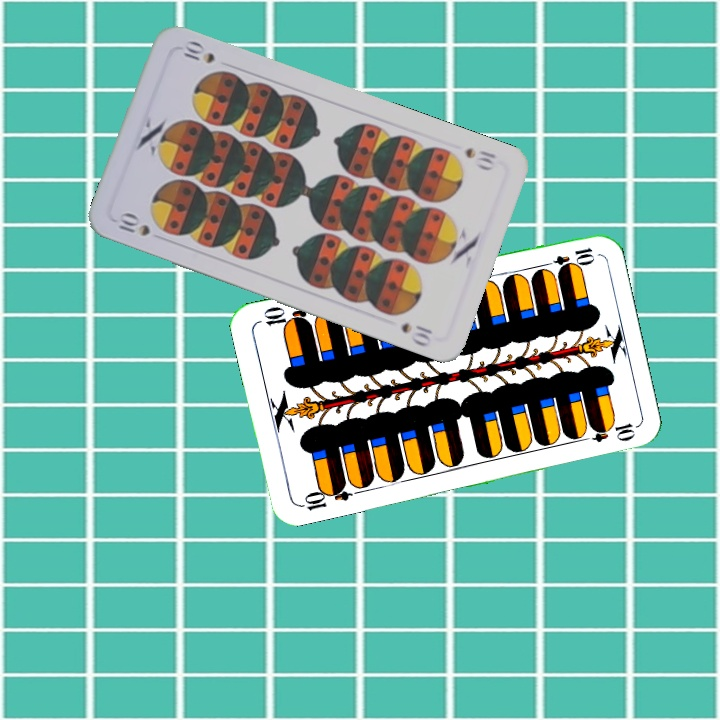E10: (295, 479, 354, 513), (538, 243, 597, 272)
S10: (114, 210, 153, 239), (461, 143, 499, 166)
